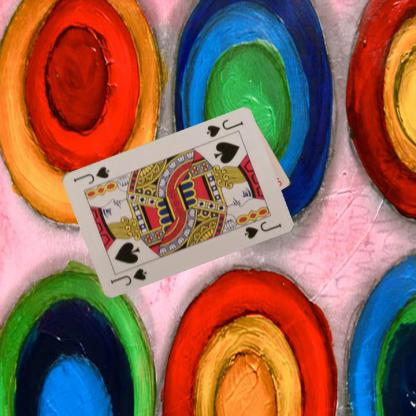Js: (107, 266, 148, 288), (204, 117, 244, 139)
